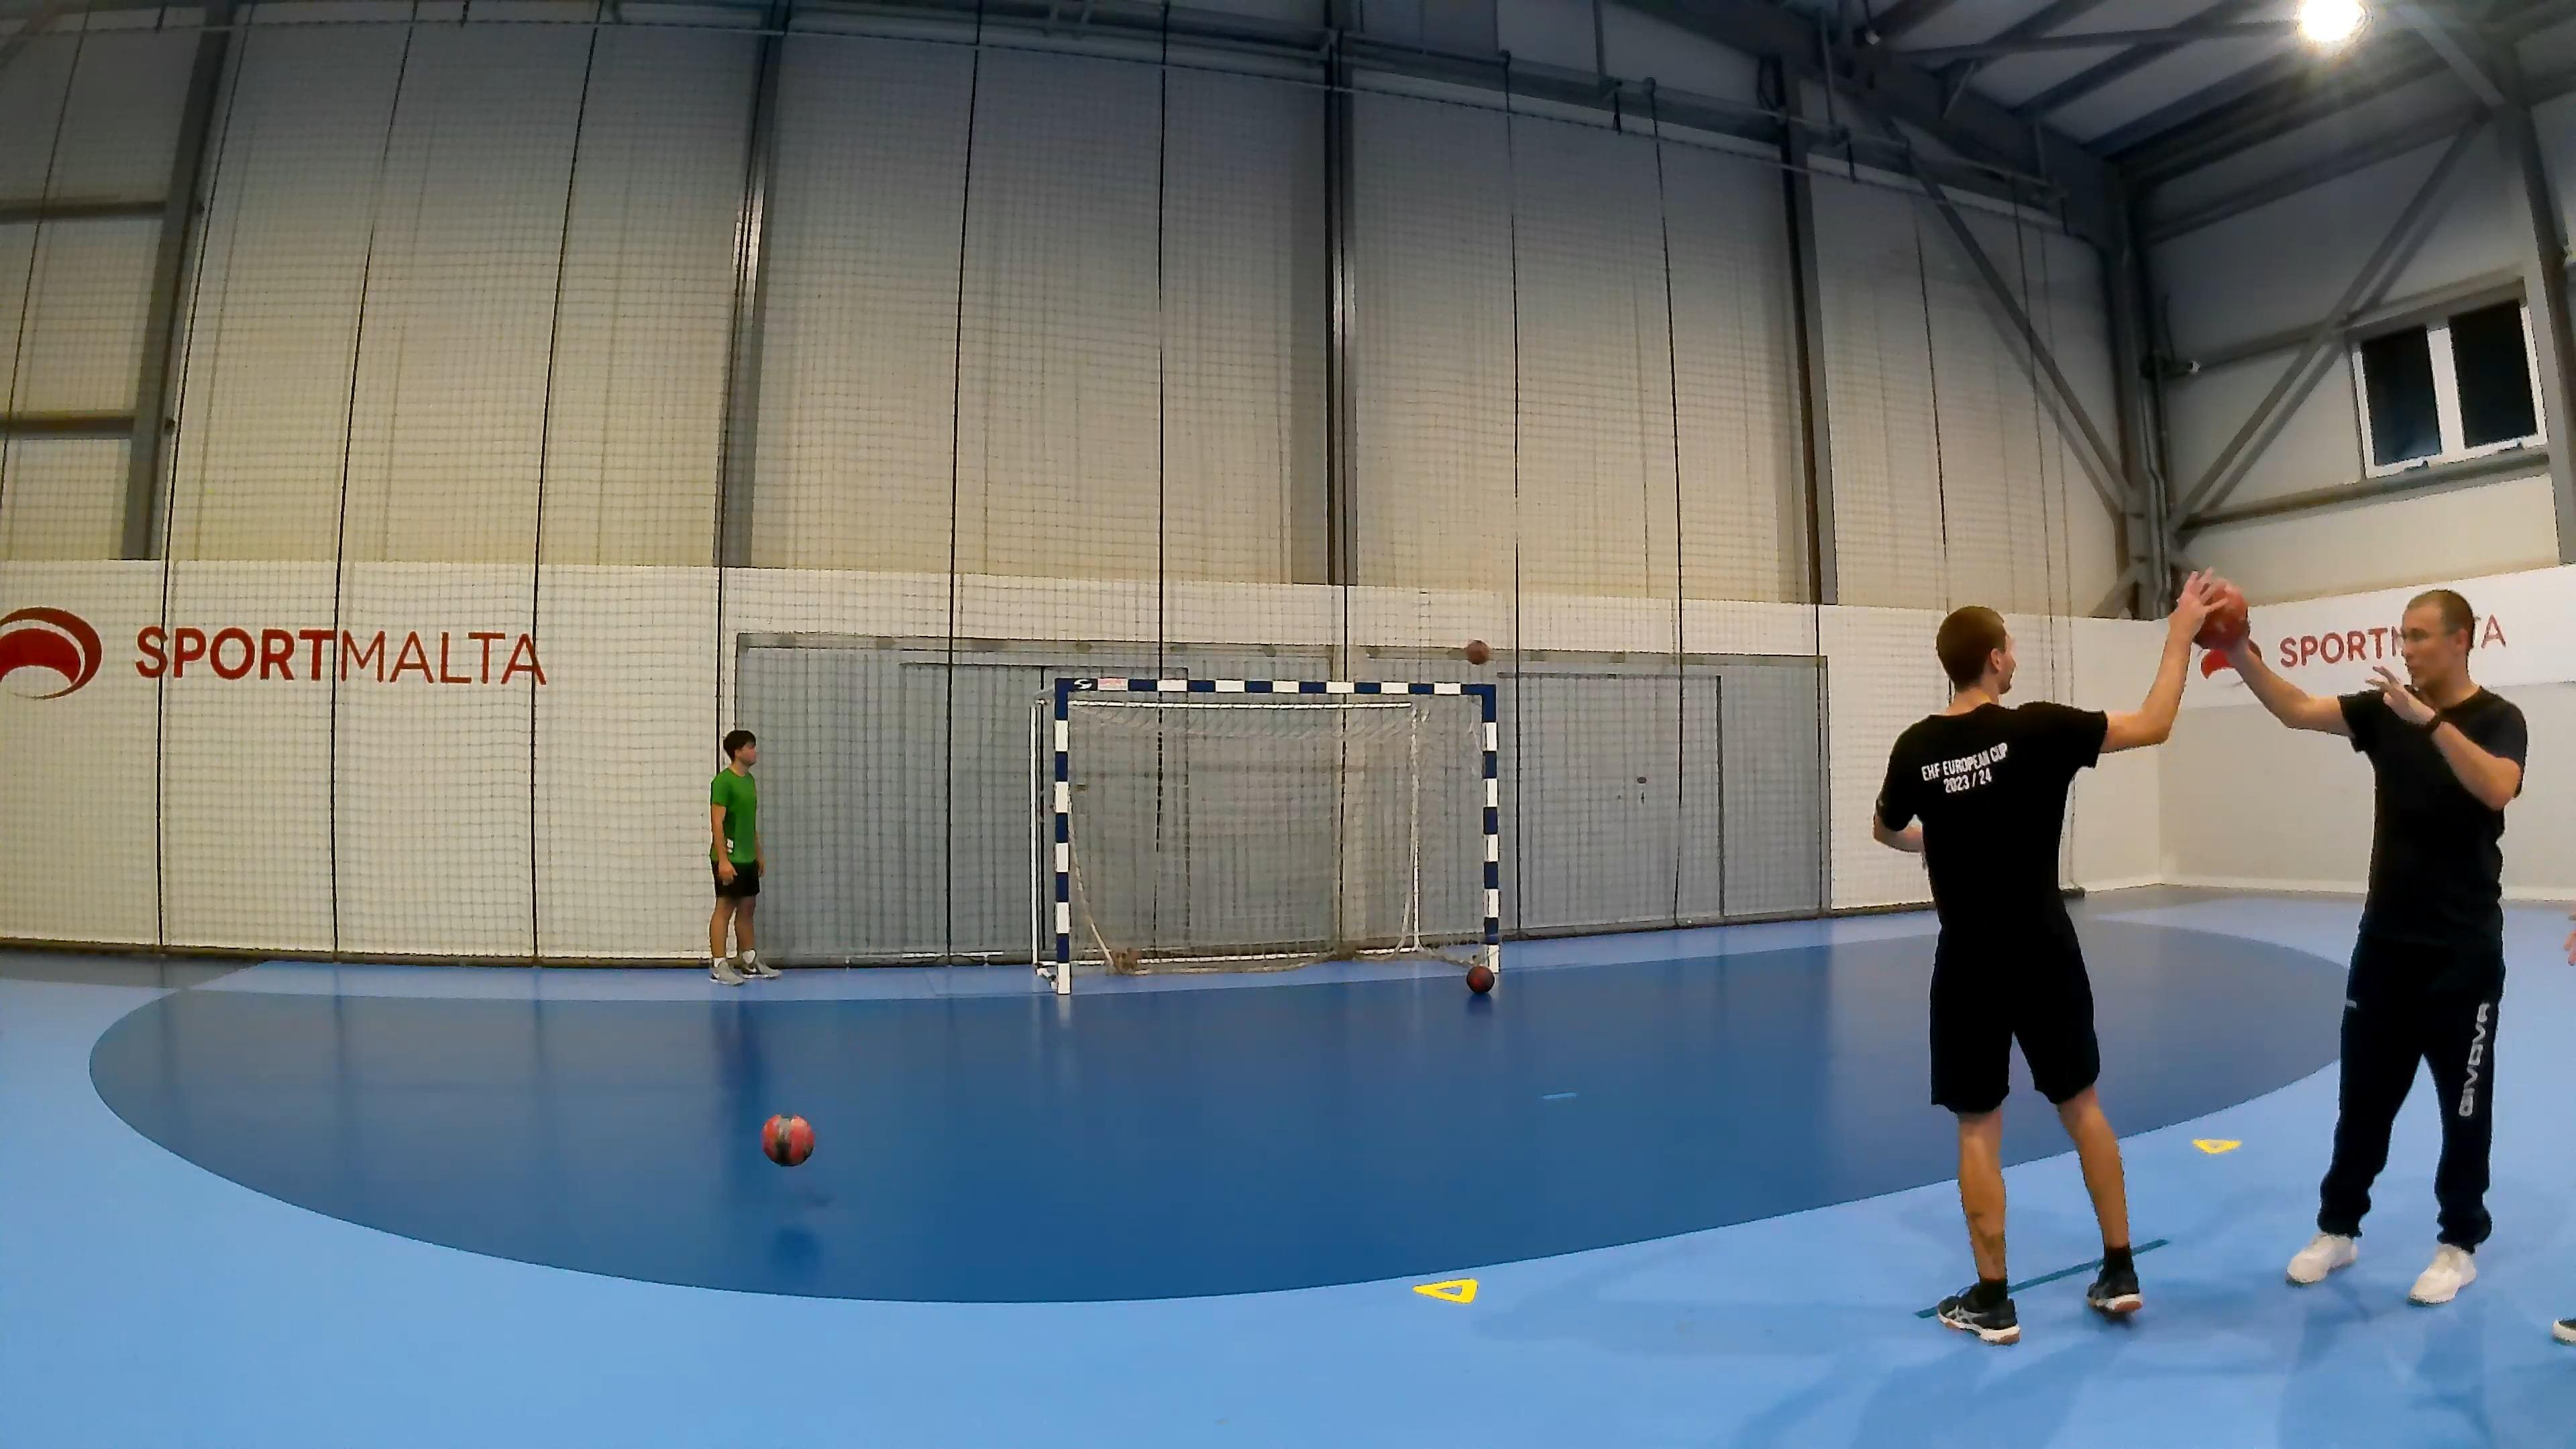handball: (2176, 570, 2252, 671), (761, 1111, 814, 1166), (1468, 626, 1497, 678), (1465, 962, 1493, 993)
